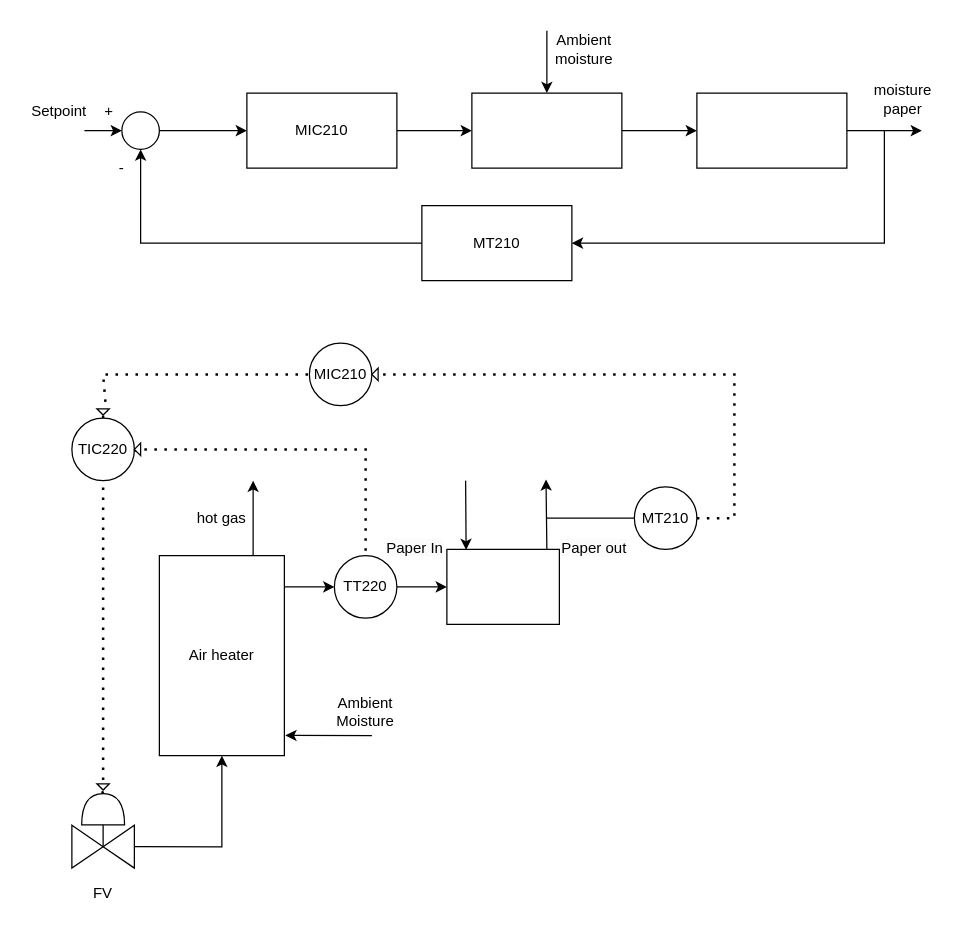
This 968x928 diagram has some shape labels left out. Each missing label, with the box of its shape:
Air heater process: (471, 92, 622, 168)
Drying unit: (446, 548, 559, 624)
Drying unit process: (696, 92, 847, 168)
